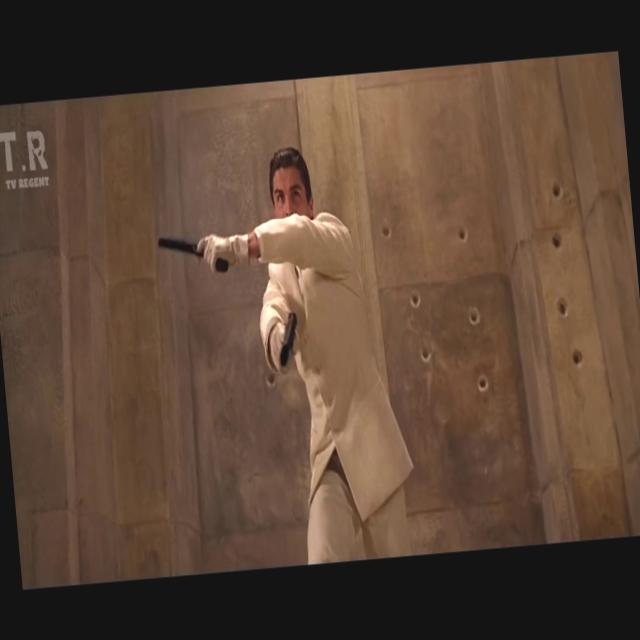handgun: (155, 215, 231, 298), (263, 301, 315, 375)
